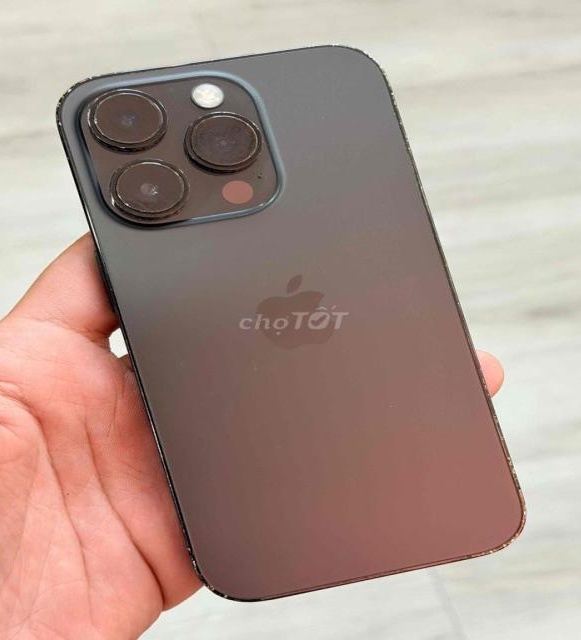scratch: (96, 85, 262, 219), (480, 359, 533, 509), (370, 45, 420, 161), (143, 395, 187, 505), (461, 522, 538, 568), (179, 549, 227, 607), (315, 34, 371, 56)
